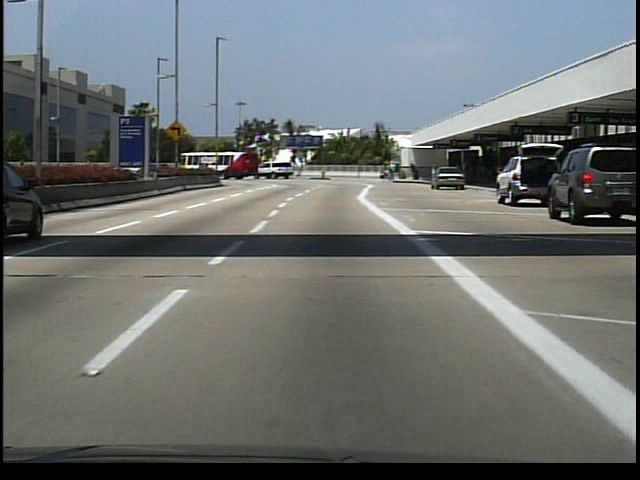person: (460, 155, 475, 185), (387, 157, 397, 181)
